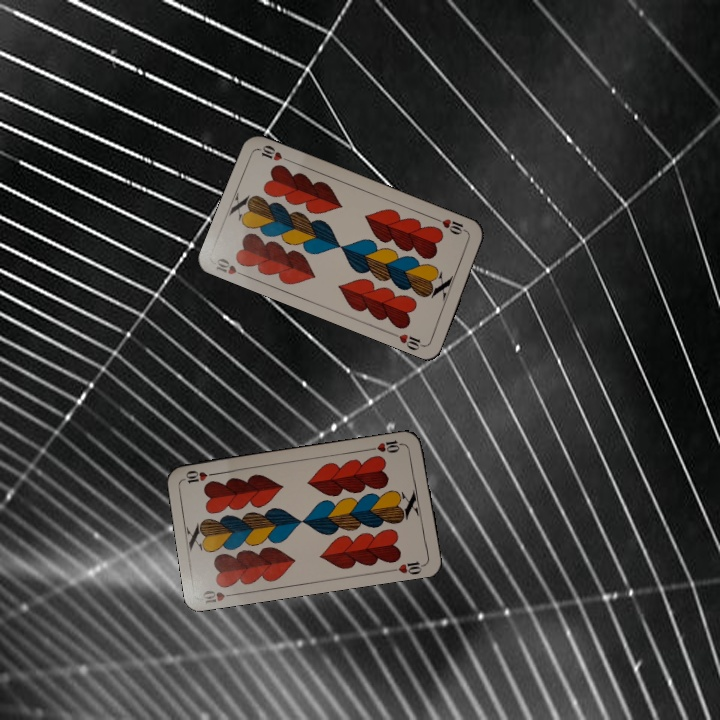H10: (211, 254, 250, 280), (432, 214, 471, 237), (198, 586, 239, 606), (367, 436, 407, 456)
